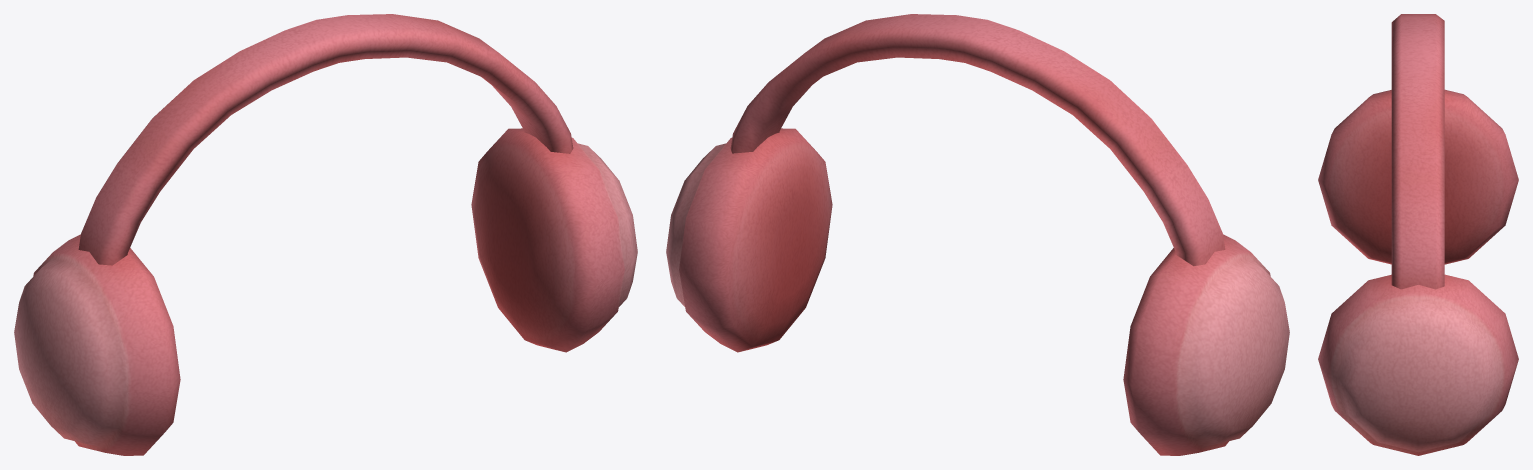
File: Earmuff.fbx
3 views of the same model, side by side, from view 1: azimuth 30°, elevation 25°; view 2: azimuth 150°, elevation 25°; view 3: azimuth 270°, elevation 25° (orthographic). The views are drawn at different scales.
Parts seen in each view (by area): view 1: Earmuff; view 2: Earmuff; view 3: Earmuff.
Part boxes in pixels (x1=…): Earmuff: x1=14, y1=14, x2=637, y2=455; Earmuff: x1=666, y1=14, x2=1289, y2=455; Earmuff: x1=1318, y1=14, x2=1518, y2=455.
Bounding box in the file's own units: 123 × 75.37 × 42.72.
1 material, 1 textured.
